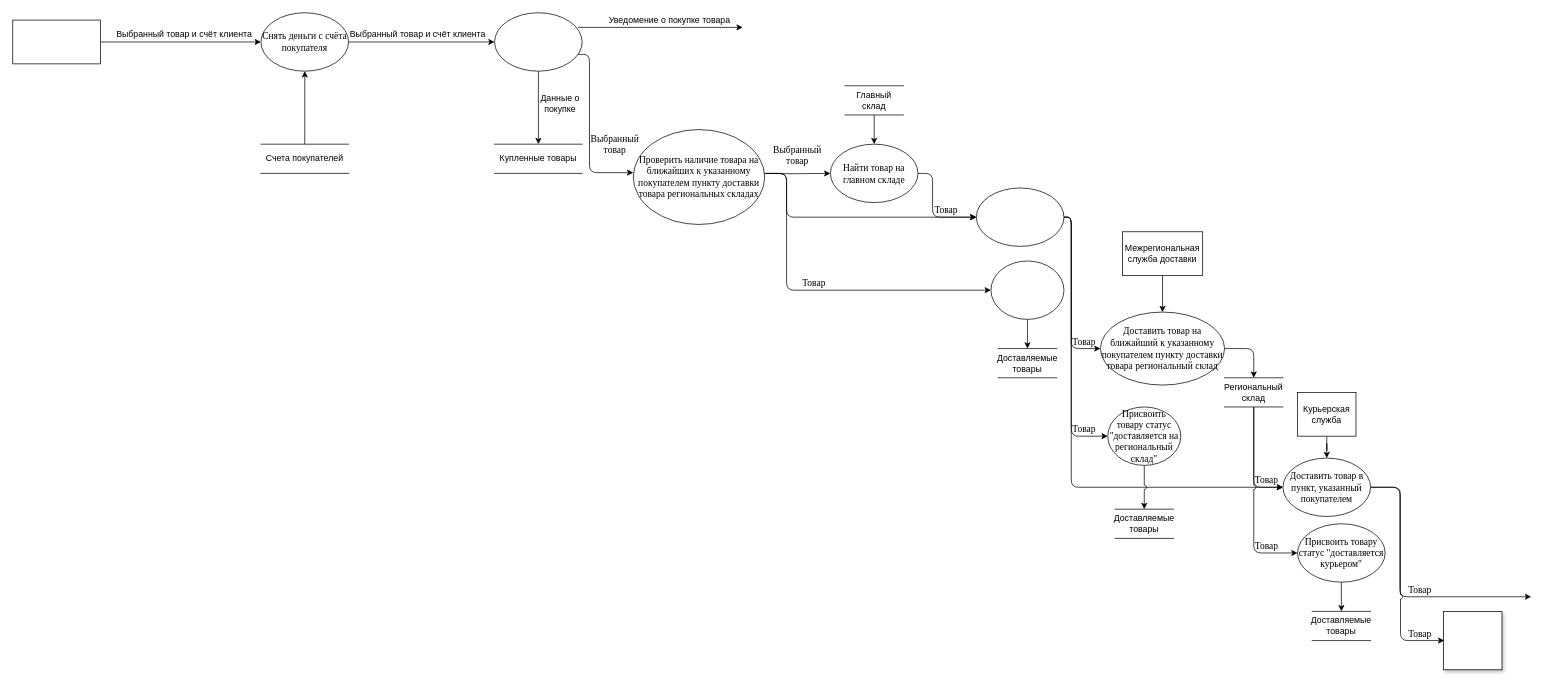
This 1550x688 diagram has some shape labels left out. The centre of each missing label's shape, as x and y in pixels:
Авторизованный пользователь: [56,41]
Зафиксировать покупку: [538,41]
Присвоить товару статус "доставлен": [1473,641]
Присвоить товару статус "упаковывается": [1027,289]
Упаковать товар: [1020,216]
